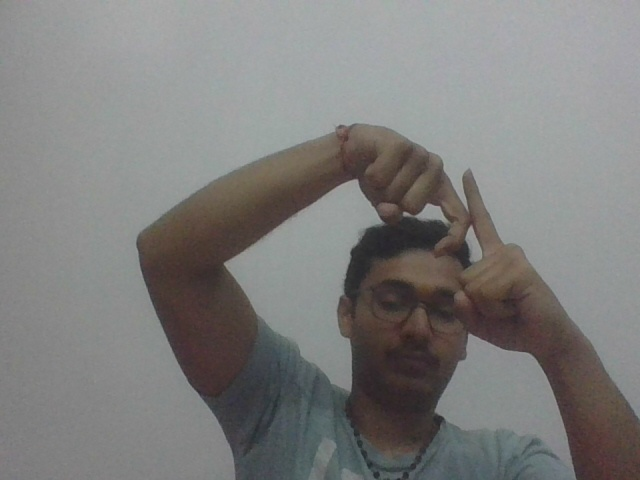K: (414, 130, 559, 322)
